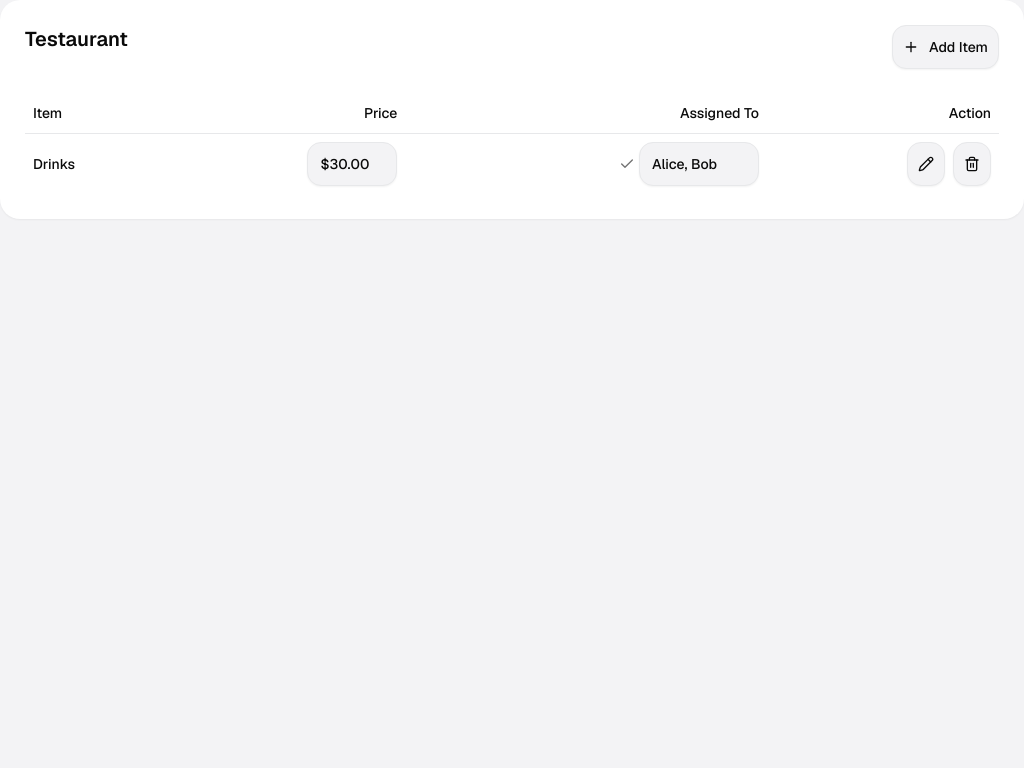
Test case: ItemAssignment › Edit Split dialog (dollar-amount mode) › toggling to $ shows dollar values converted from current percentages
Click the 4th button: [926, 164] box [907,142,945,186]
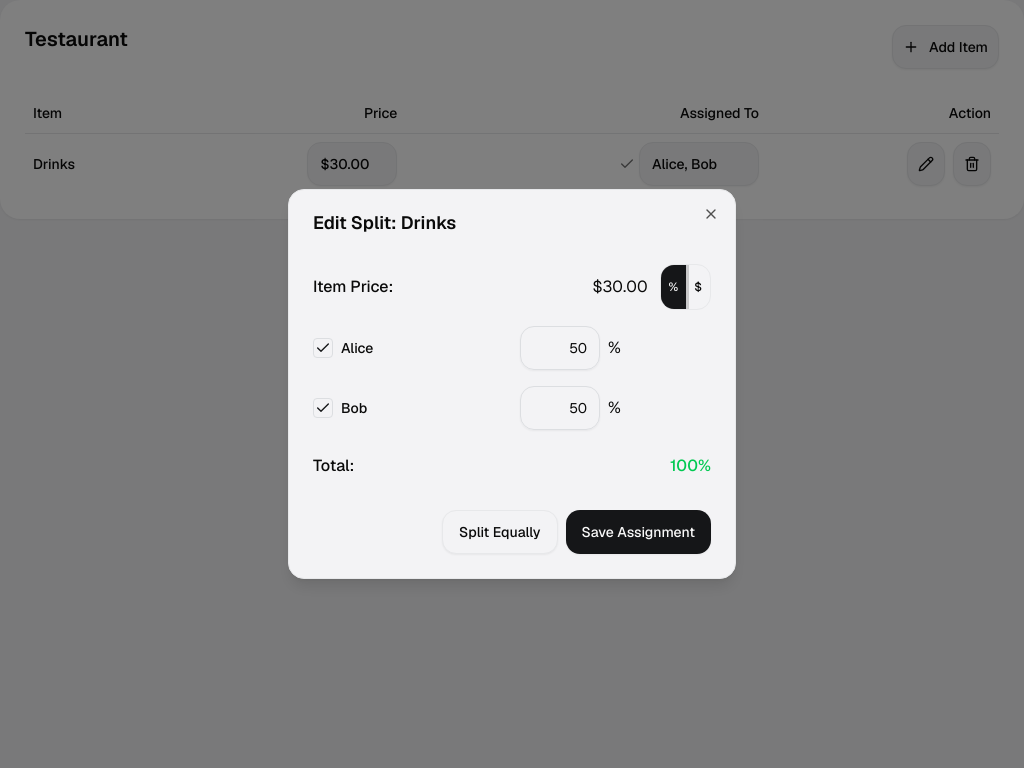
Expected: the number of fields showing "50" is 2, [520,326,600,370]; [520,386,600,430]
# Toggle to $ mode
Click the button "$": [698, 287] box [686,265,710,309]
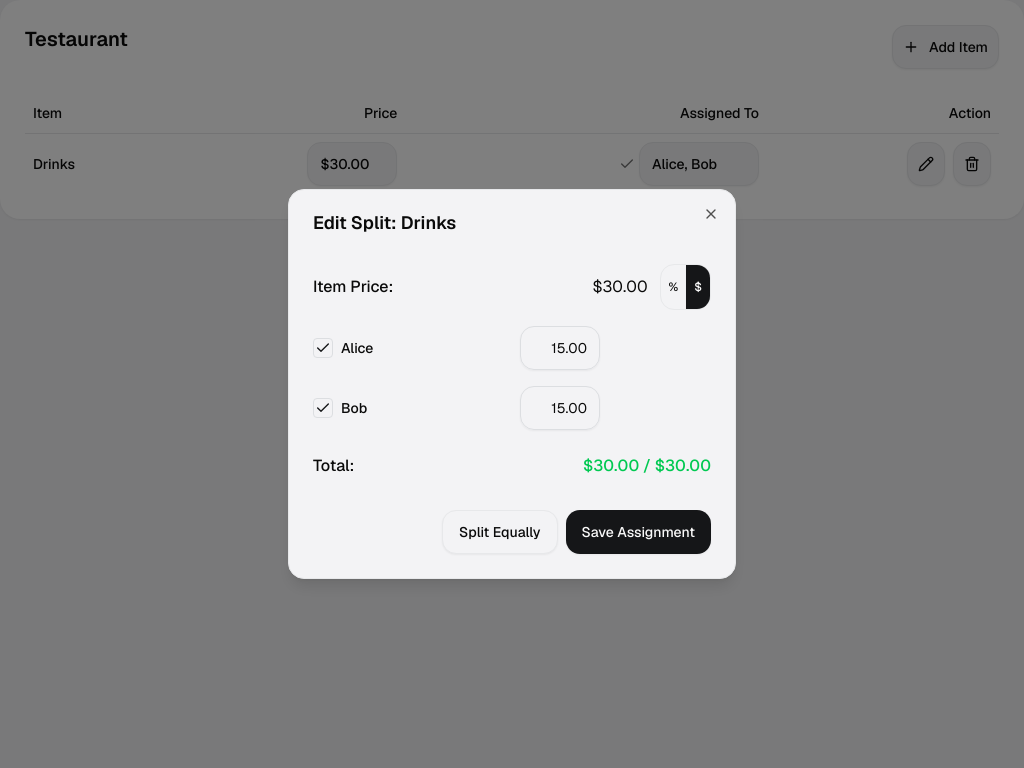
Expected: the number of fields showing "15.00" is 2, [520,326,600,370]; [520,386,600,430]
